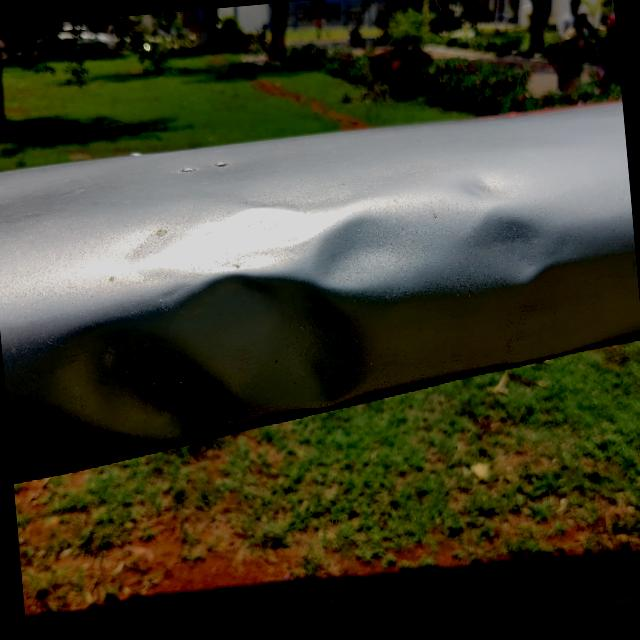dent: (9, 160, 433, 476), (435, 156, 579, 314)
